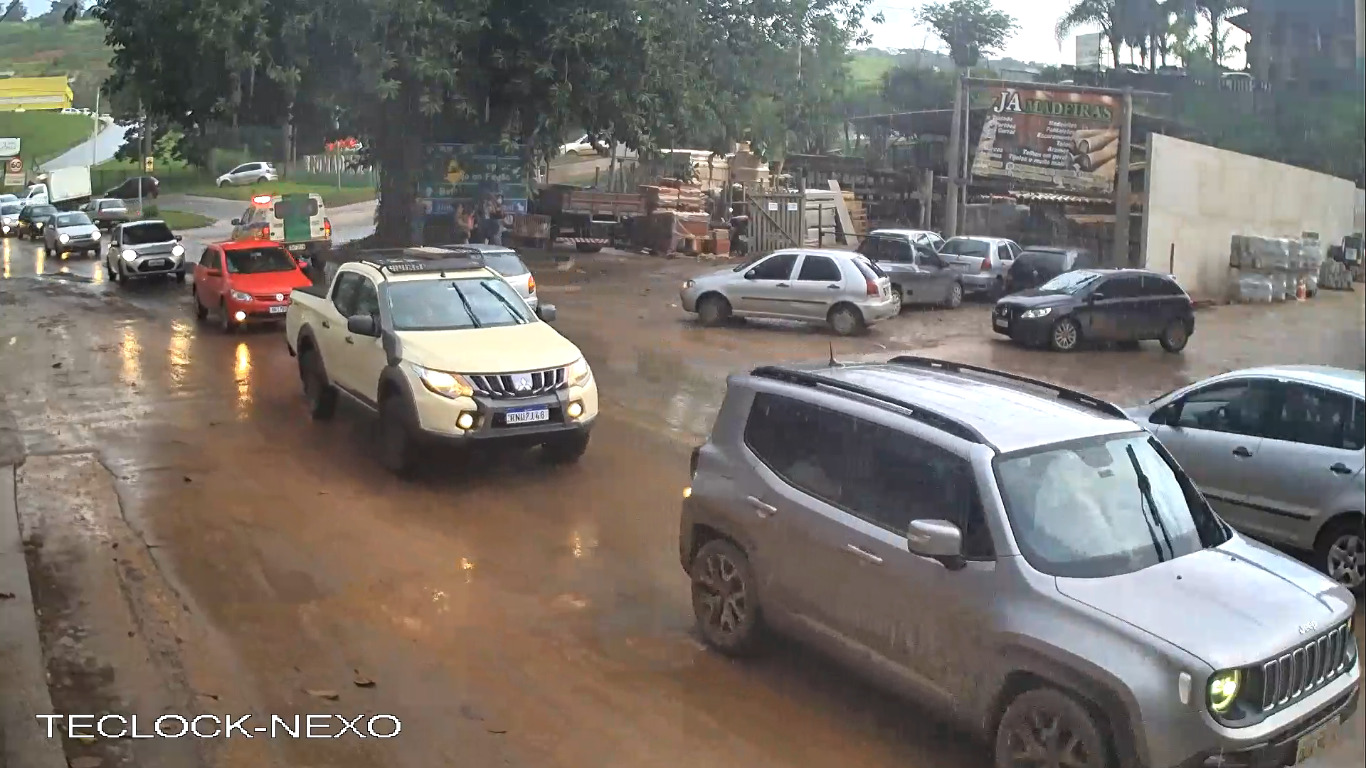car: (281, 248, 605, 488), (675, 239, 904, 337), (988, 266, 1197, 355), (190, 239, 320, 335), (103, 219, 188, 287), (40, 207, 107, 264)
